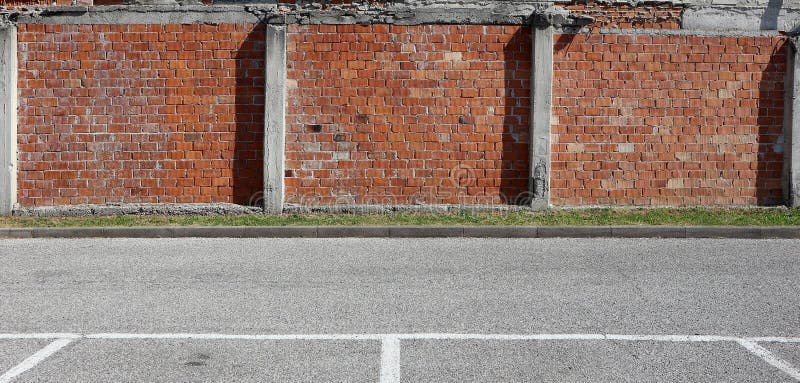Wall: (2, 12, 794, 202)
